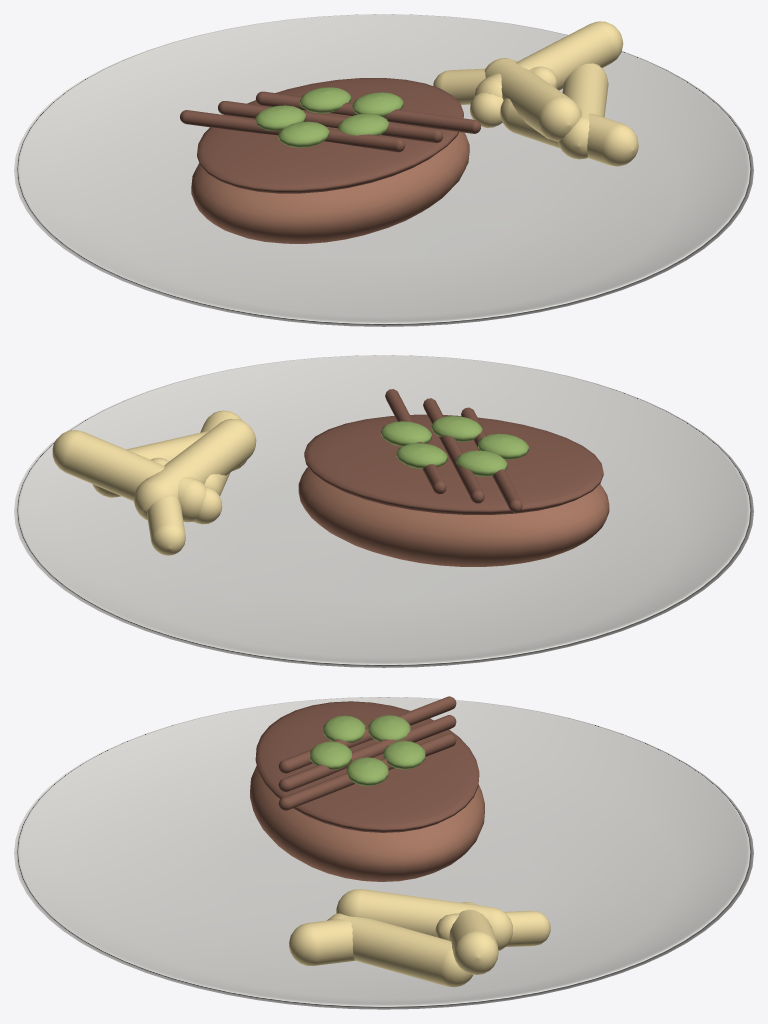
File: lomo-parrilla.glb
3 views of the same model, one above another, from view 1: azimuth 30°, elevation 25°; view 2: azimuth 150°, elevation 25°; view 3: azimuth 270°, elevation 25° (orthographic).
Bounding box in the file's own units: 0.27 × 0.0555 × 0.27.
